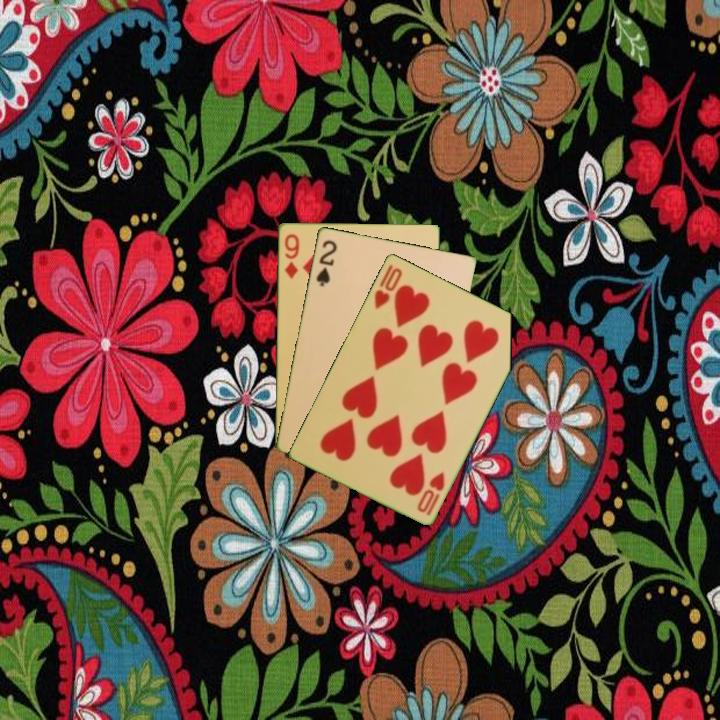10h: (370, 260, 405, 312), (413, 468, 447, 518)
2s: (312, 236, 340, 289)
9d: (281, 230, 301, 282)
